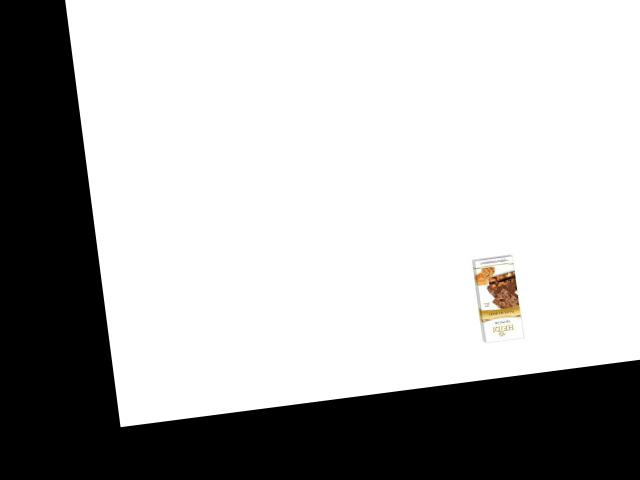chocolate: (469, 251, 525, 346)
